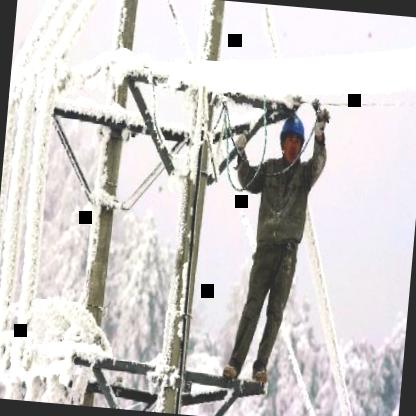helmet: (278, 108, 311, 164)
